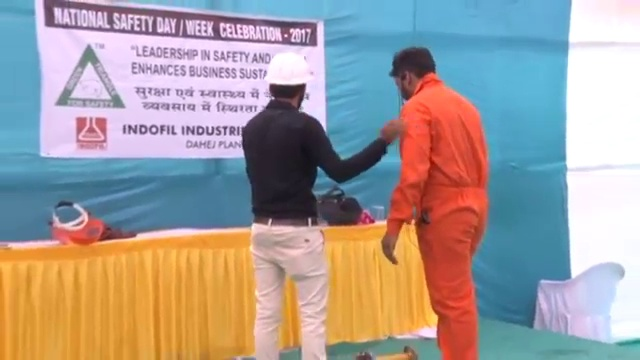helmet: (264, 51, 316, 86)
helmet_off: (388, 46, 437, 102)
helmet_on: (263, 50, 316, 111)
person: (240, 50, 405, 360), (381, 47, 490, 360)
